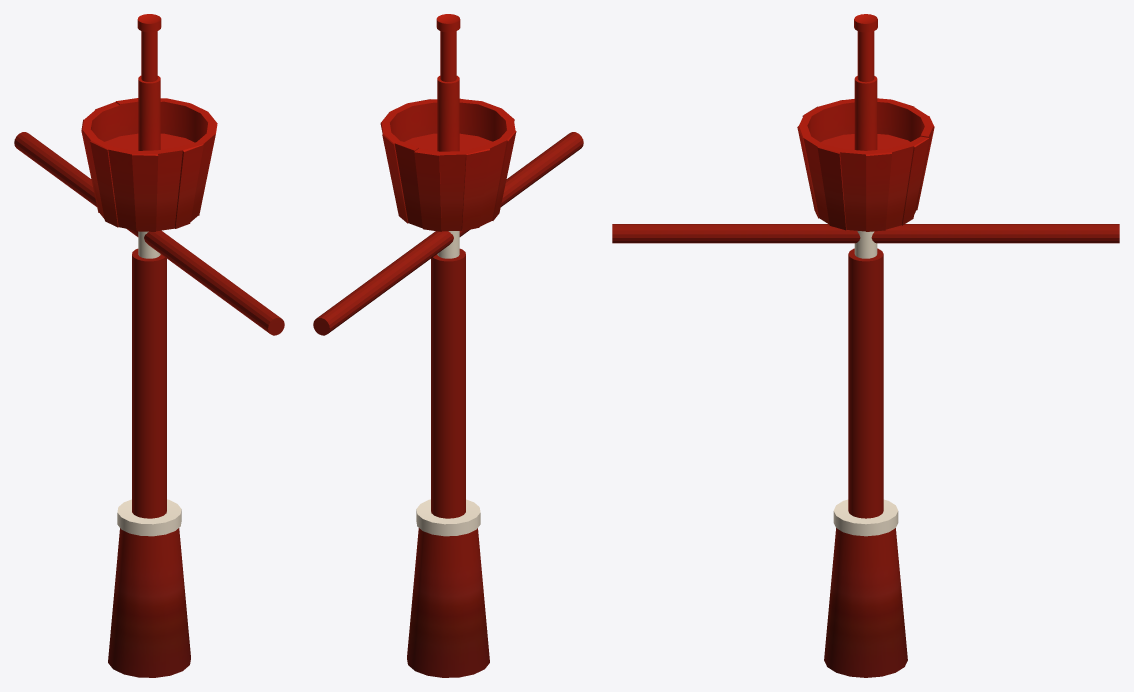
The model's file is Mastro.glb.
3 renders of one model, left to right at view 1: azimuth 30°, elevation 25°; view 2: azimuth 150°, elevation 25°; view 3: azimuth 270°, elevation 25°, orthographic.
Parts seen in each view (by area): view 1: Mastro; view 2: Mastro; view 3: Mastro.
Boxes of the visible parts, bbox=[...] form: Mastro: bbox=[14, 14, 284, 677]; Mastro: bbox=[313, 14, 583, 677]; Mastro: bbox=[612, 14, 1119, 677].
Size of the model in its own units: 2.13 by 10.98 by 7.87.
Materials: 1 (1 with a texture image).
